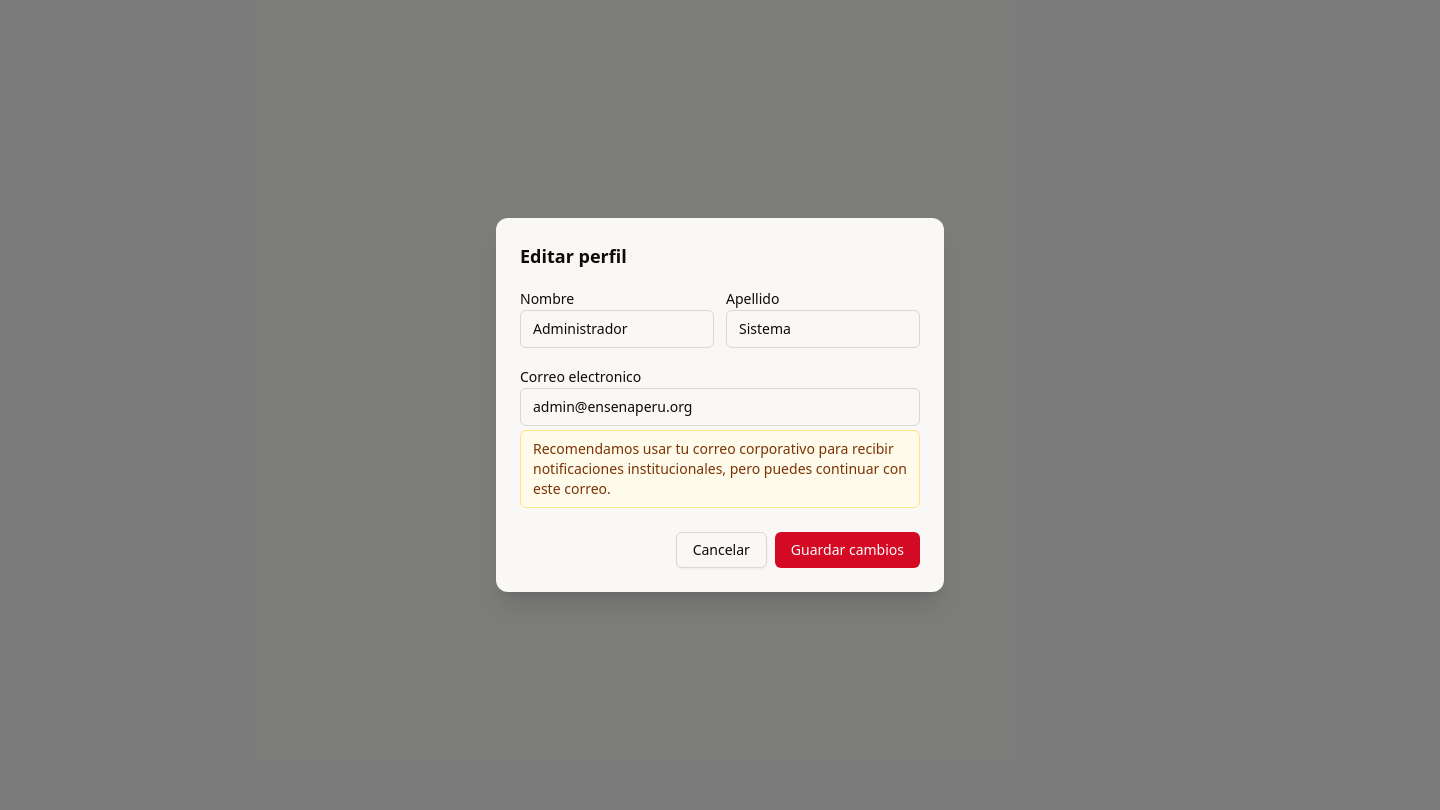
Test case: EditProfileModal › bloquea guardar cuando el formato de correo es inválido
Replace the text in the field labelled "Correo electronico" with "not-an-email" at (720, 407), box 520,388 -> 920,426
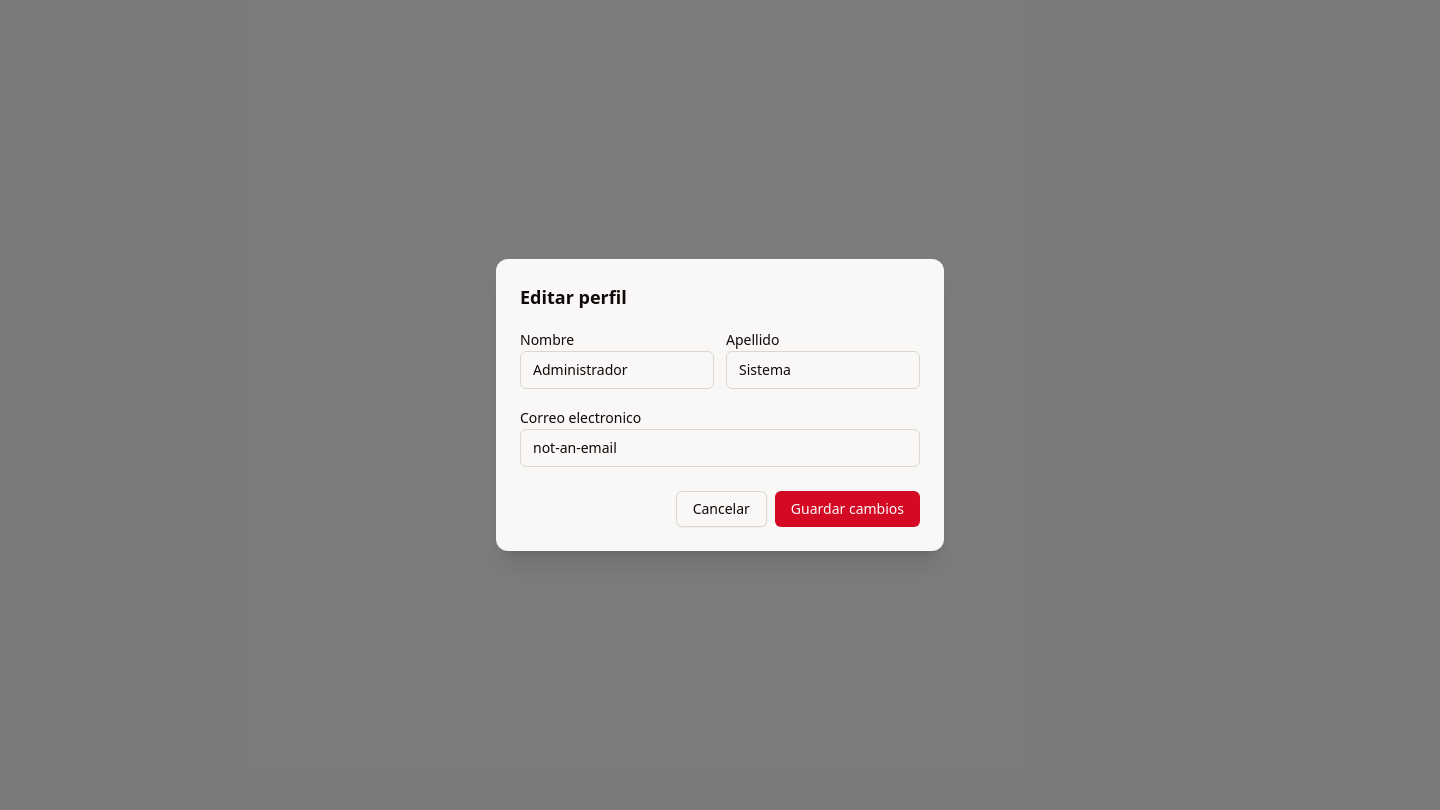
Click the button "Guardar cambios".
click(847, 509)  # box 775,491 -> 920,527
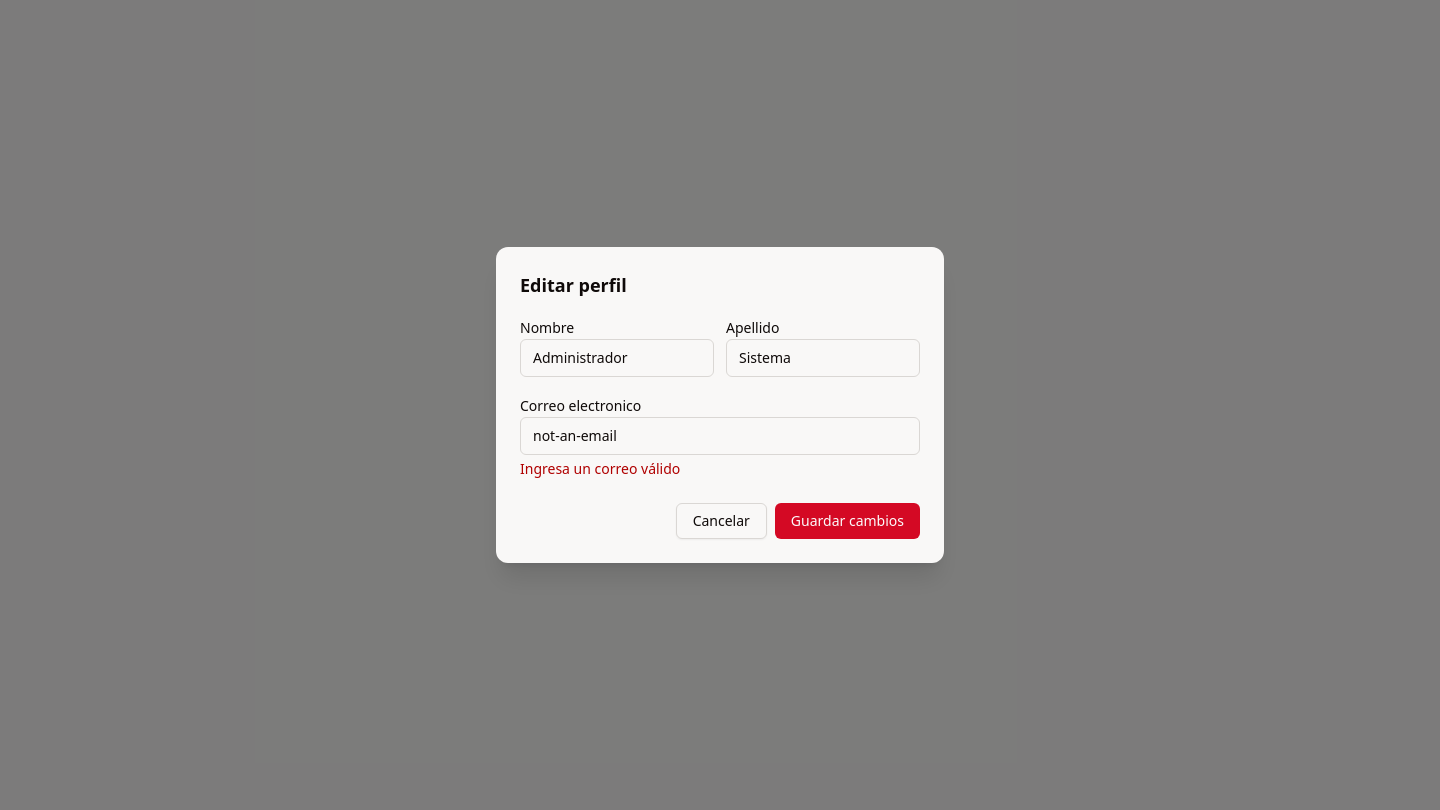
Result: the text "Ingresa un correo válido" is shown at 520,459 -> 680,478
